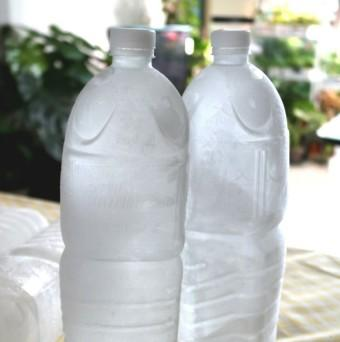bottle: (56, 25, 187, 342), (179, 31, 290, 340)
